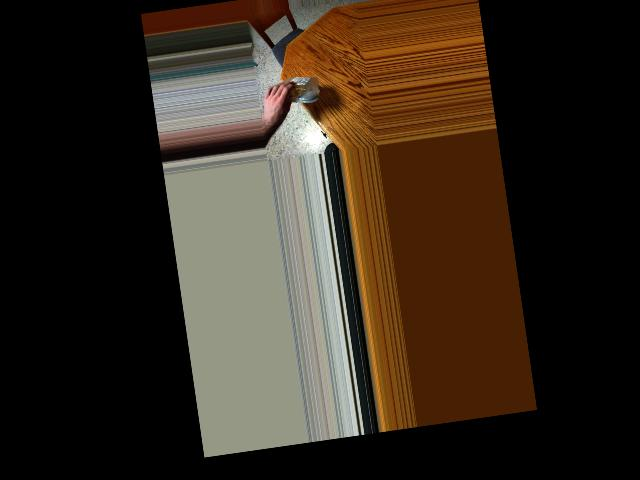cheese: (270, 71, 316, 111)
